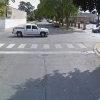Crosswalk: (4, 36, 99, 61)
